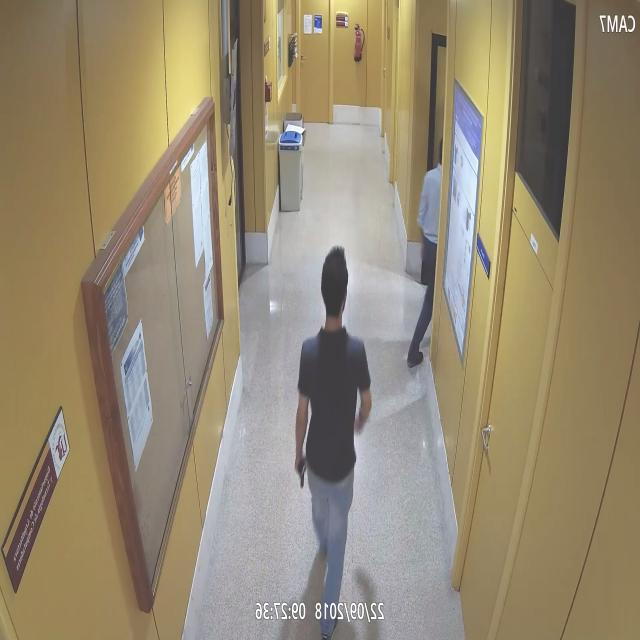pistol: (296, 454, 307, 487)
